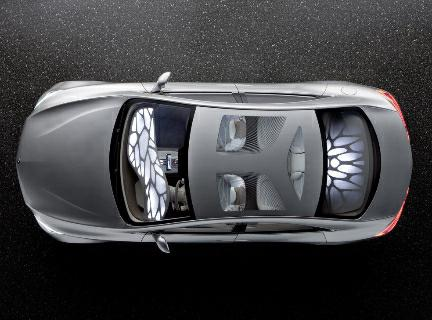奔驰-F800: (19, 63, 419, 263)
